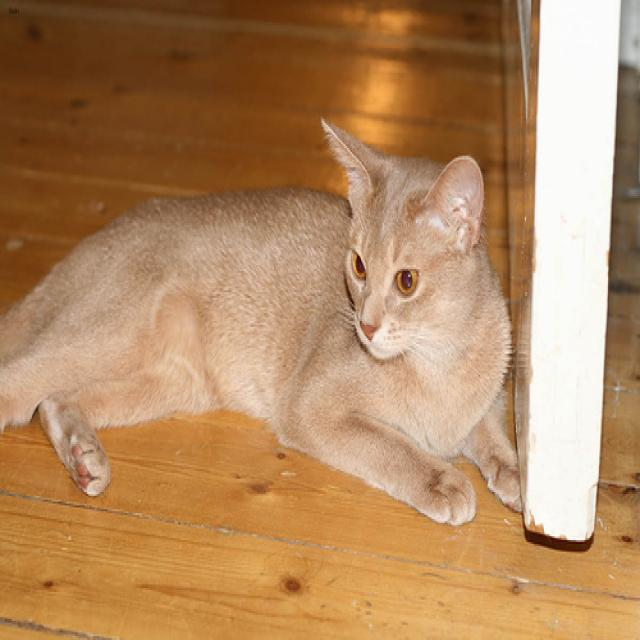cat: (318, 114, 482, 356)
